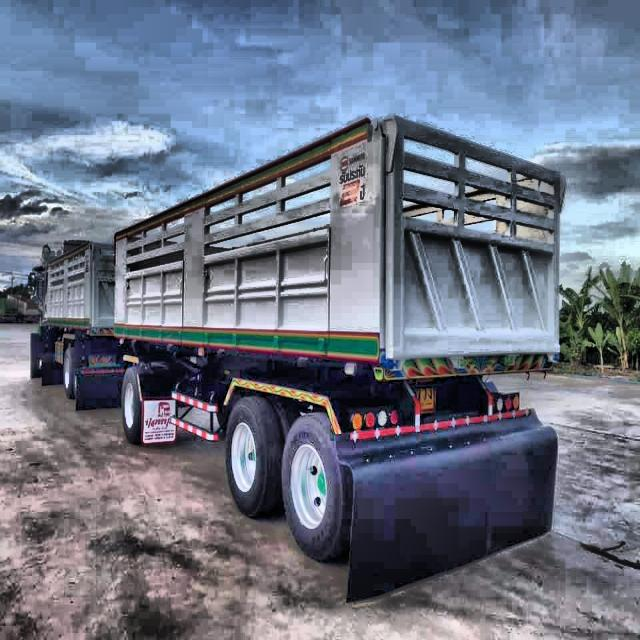trailer: (24, 117, 566, 603)
